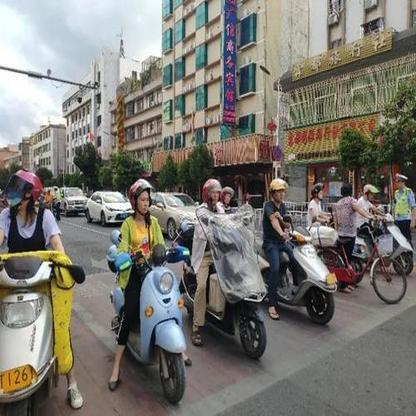target: (102, 178, 196, 407), (2, 169, 86, 412), (177, 176, 271, 359), (260, 178, 340, 326)
